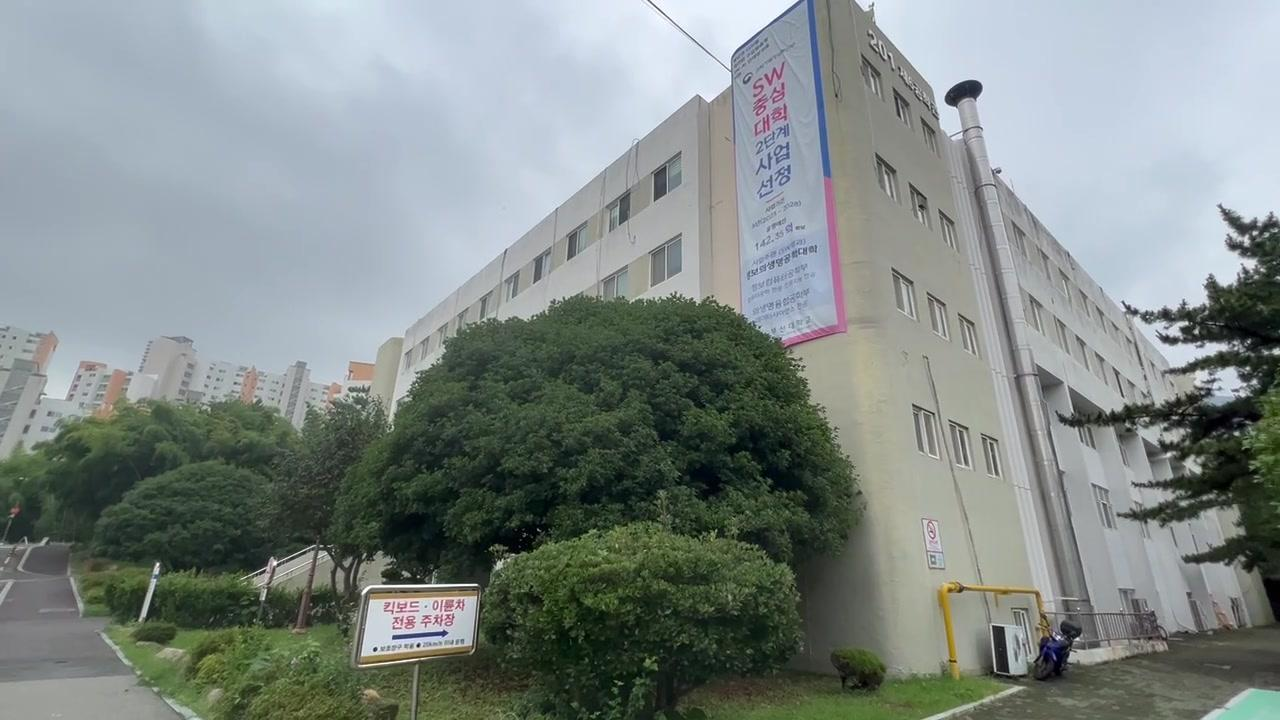building: (854, 27, 1109, 626)
